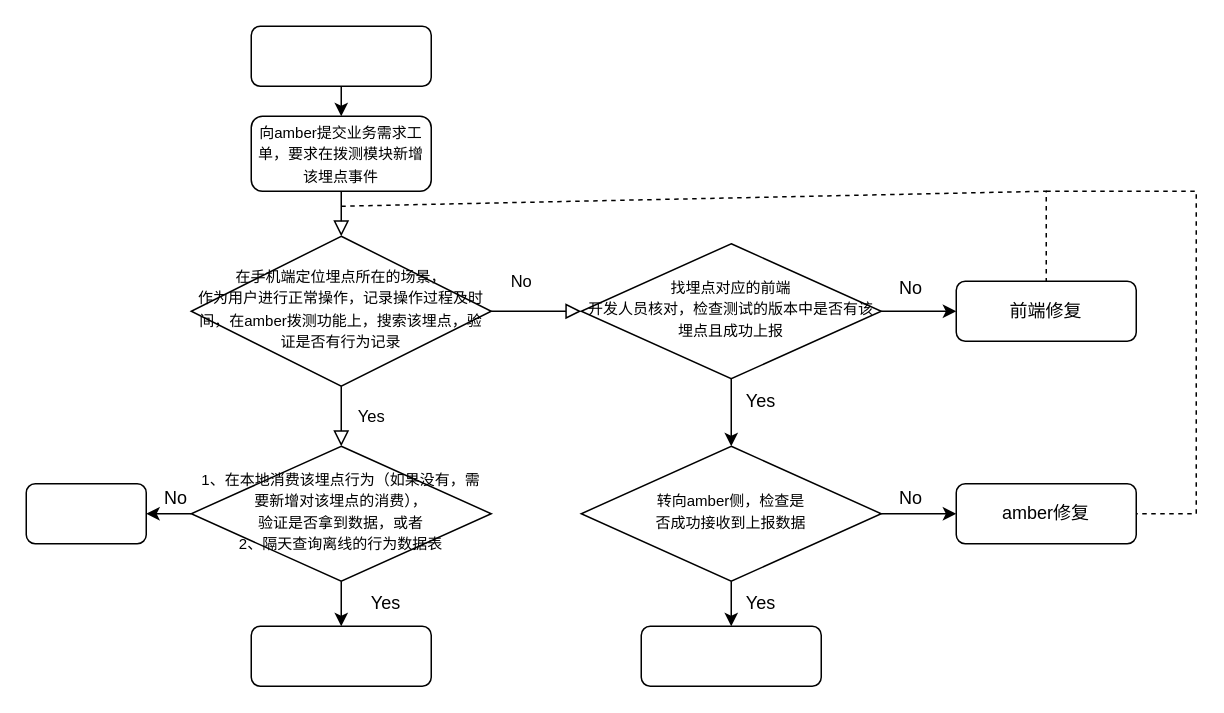
This 1224x713 diagram has some shape labels left out. The centre of each missing label's shape, as x and y in pixels:
"定位本地 消费不到问题" belongs at point (85, 513).
"新增埋点事件" belongs at point (340, 55).
"继续定位其他问题" belongs at point (730, 655).
"验证通过，流程结束" belongs at point (340, 655).
